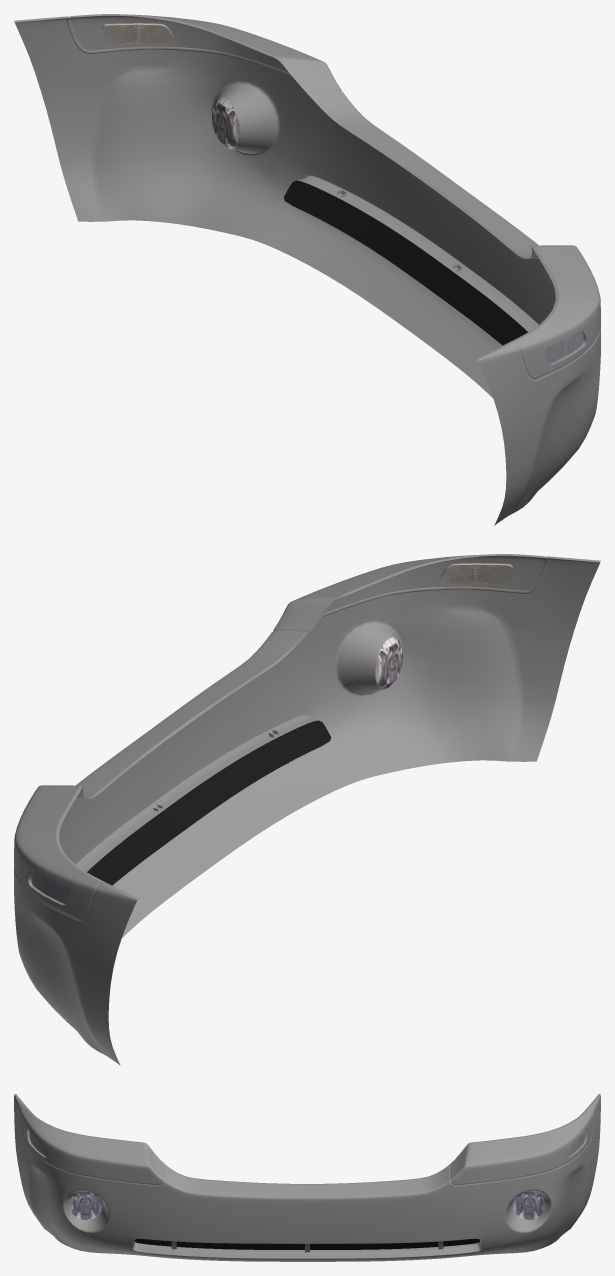
The picture shows the model from 3 angles, top to bottom: view 1: azimuth 30°, elevation 25°; view 2: azimuth 150°, elevation 25°; view 3: azimuth 270°, elevation 25°; orthographic projection. The views are drawn at different scales.
Parts seen in each view (by area): view 1: U721_021G_C_U721_021G_C_6_DaS, U721_021G_C_U721_021G_C_6_DaS_E, U721_021G_C_U721_021G_C_5_D, U721_021G_C_1_N_U721_021G_C, U721_021G_C_U721_021G_C_2_N, U721_021G_C_U721_021G_C_4_N, U721_021G_C_U721_021G_C_8_DTaSI; view 2: U721_021G_C_U721_021G_C_6_DaS, U721_021G_C_U721_021G_C_6_DaS_E, U721_021G_C_U721_021G_C_5_D, U721_021G_C_U721_021G_C_4_N, U721_021G_C_U721_021G_C_3_N, U721_021G_C_1_N_U721_021G_C, U721_021G_C_U721_021G_C_9_DTaSI; view 3: U721_021G_C_U721_021G_C_6_DaS, U721_021G_C_U721_021G_C_6_DaS_E, U721_021G_C_U721_021G_C_5_D, U721_021G_C_U721_021G_C_2_N, U721_021G_C_U721_021G_C_3_N, U721_021G_C_U721_021G_C_10_DTaSI, U721_021G_C_U721_021G_C_7_DTaSI.
Part boxes in pixels (x1,y1,x2,y2): U721_021G_C_U721_021G_C_6_DaS: (15,15,600,525); U721_021G_C_U721_021G_C_6_DaS_E: (14,14,600,381); U721_021G_C_U721_021G_C_5_D: (283,180,527,345); U721_021G_C_1_N_U721_021G_C: (102,23,173,44); U721_021G_C_U721_021G_C_2_N: (212,97,239,149); U721_021G_C_U721_021G_C_4_N: (545,330,585,364); U721_021G_C_U721_021G_C_8_DTaSI: (545,331,584,364); U721_021G_C_U721_021G_C_6_DaS: (14,555,599,1065); U721_021G_C_U721_021G_C_6_DaS_E: (14,554,600,921); U721_021G_C_U721_021G_C_5_D: (87,720,331,885); U721_021G_C_U721_021G_C_4_N: (441,563,512,584); U721_021G_C_U721_021G_C_3_N: (375,637,402,689); U721_021G_C_1_N_U721_021G_C: (29,870,69,904); U721_021G_C_U721_021G_C_9_DTaSI: (30,871,69,904); U721_021G_C_U721_021G_C_6_DaS: (14,1094,600,1261); U721_021G_C_U721_021G_C_6_DaS_E: (14,1094,600,1258); U721_021G_C_U721_021G_C_5_D: (135,1239,479,1249); U721_021G_C_U721_021G_C_2_N: (512,1190,545,1220); U721_021G_C_U721_021G_C_3_N: (69,1190,102,1220); U721_021G_C_U721_021G_C_10_DTaSI: (70,1191,102,1220); U721_021G_C_U721_021G_C_7_DTaSI: (512,1191,544,1220).
Size of the model in its own units: 60.67 by 50.12 by 217.
